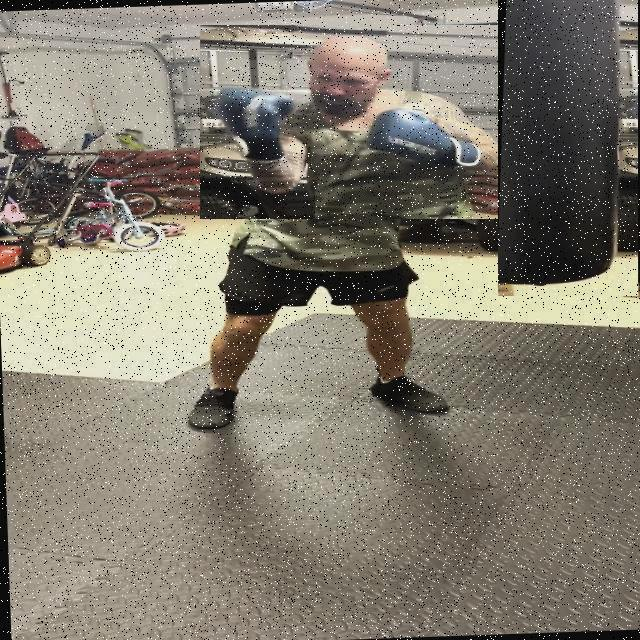punch: (200, 25, 516, 219)
